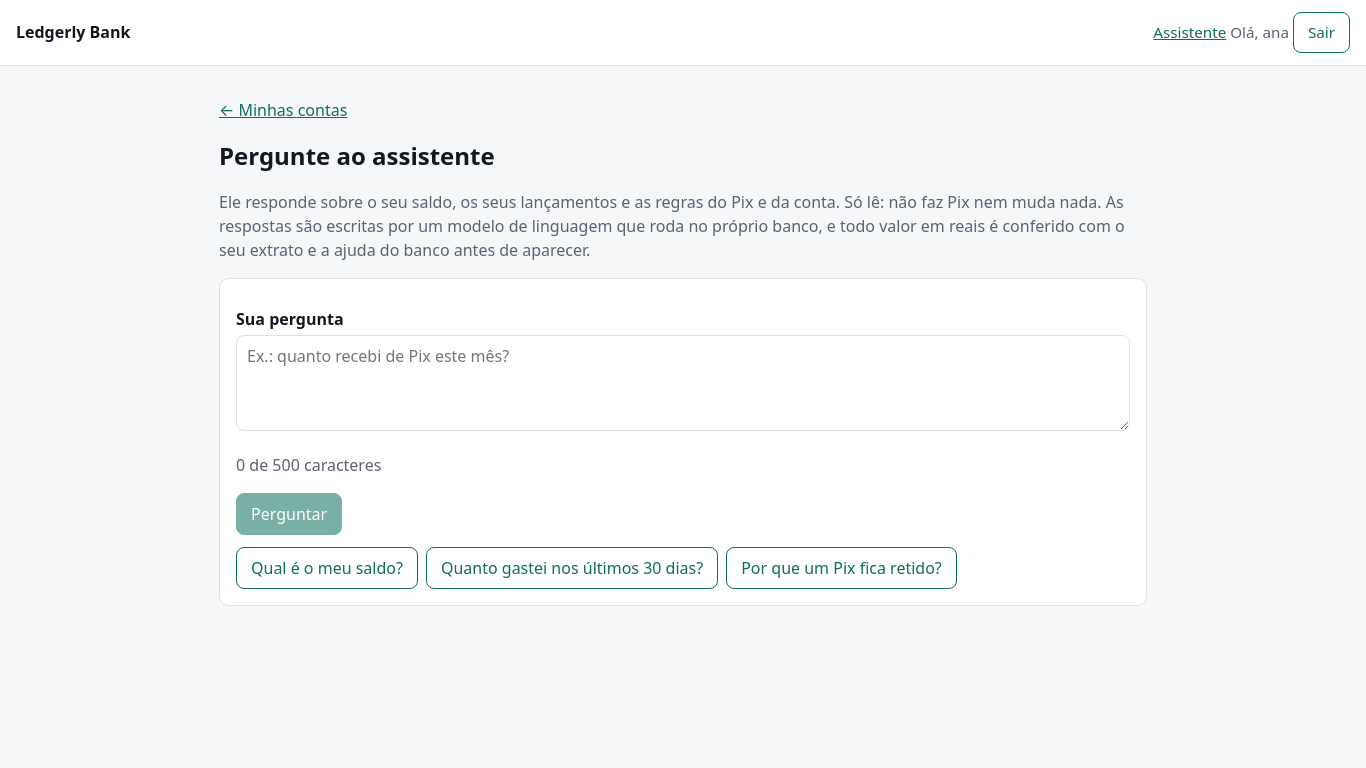
Test: assistente › serviço fora do ar: a pergunta volta para a caixa, para tentar de novo
Type "qual é o meu saldo?" into the text box labelled "Sua pergunta" at x=683, y=383, box [236,335,1130,431]
Then press Enter
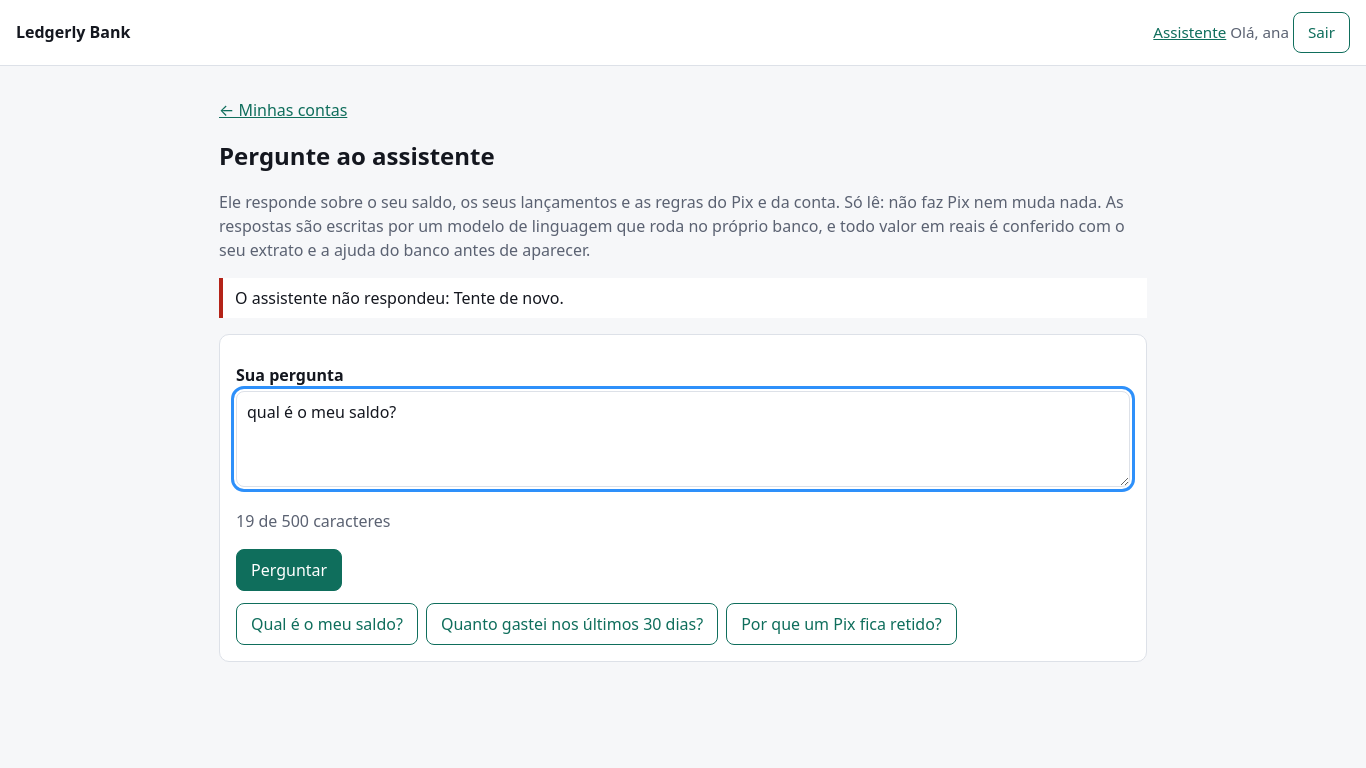
Expected: the message shows "O assistente não respondeu", [235,287,564,309]
